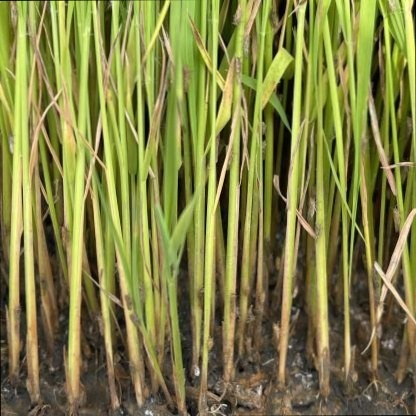Brown_hopper: (223, 0, 248, 34), (298, 198, 319, 230), (369, 298, 389, 331), (386, 205, 404, 238), (57, 222, 75, 255), (235, 31, 251, 66), (267, 316, 284, 348), (219, 141, 236, 171), (394, 160, 413, 183), (400, 114, 414, 143), (180, 62, 192, 95), (19, 377, 37, 398), (4, 1, 17, 30), (287, 280, 302, 305), (10, 302, 25, 327), (232, 53, 244, 84), (267, 3, 279, 33), (308, 223, 323, 247), (196, 282, 208, 312), (36, 273, 49, 300), (252, 286, 268, 307), (96, 310, 108, 338), (125, 355, 136, 385), (264, 251, 276, 278), (367, 268, 381, 291), (203, 331, 217, 352), (226, 292, 239, 314), (138, 384, 152, 404), (5, 132, 16, 156), (256, 139, 269, 159), (243, 305, 255, 326), (274, 253, 285, 273), (137, 284, 147, 306), (257, 117, 268, 137), (240, 282, 252, 299), (347, 369, 358, 387), (359, 252, 369, 271), (241, 334, 255, 347), (397, 315, 408, 330), (361, 360, 372, 374), (162, 77, 171, 94), (373, 324, 383, 338), (81, 359, 90, 373), (114, 262, 119, 283), (346, 308, 354, 318)
